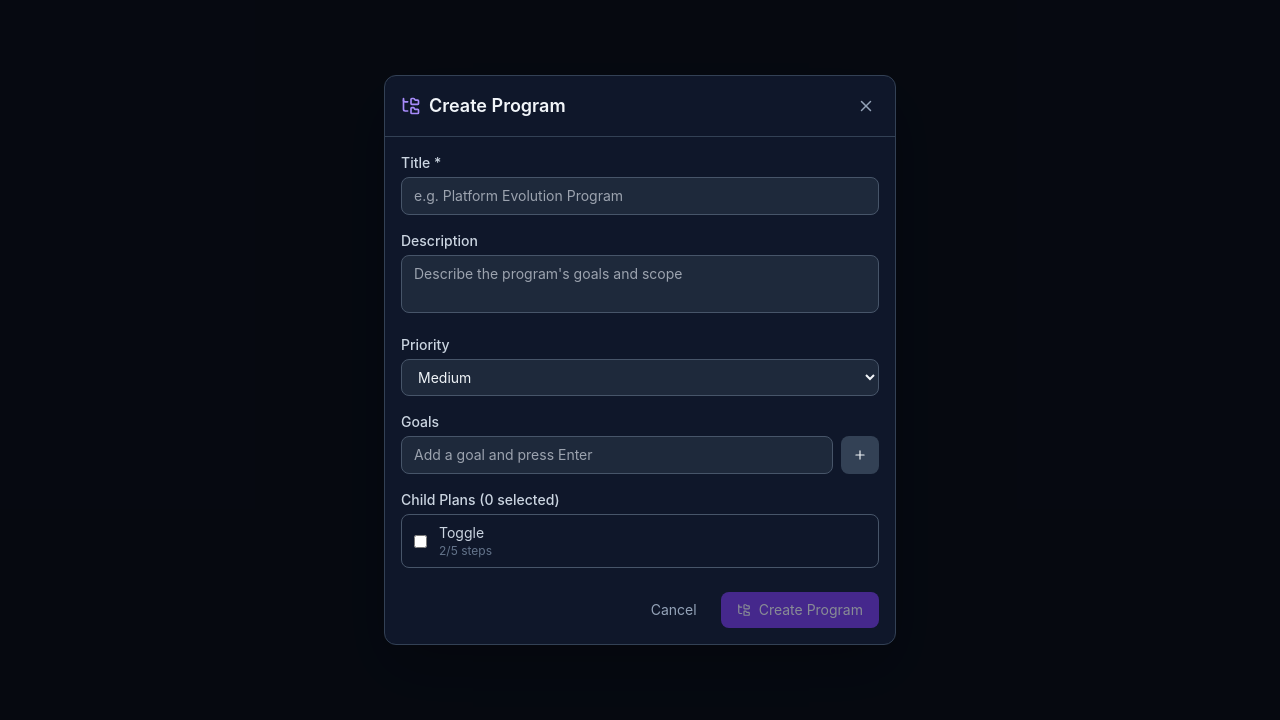
it: ProgramCreateForm › child plan selection › deselecting reduces count
What coordinates should you click on to do the following:
click the checkbox
I would click on:
 (420, 541)
Its box is [414,534,427,548].
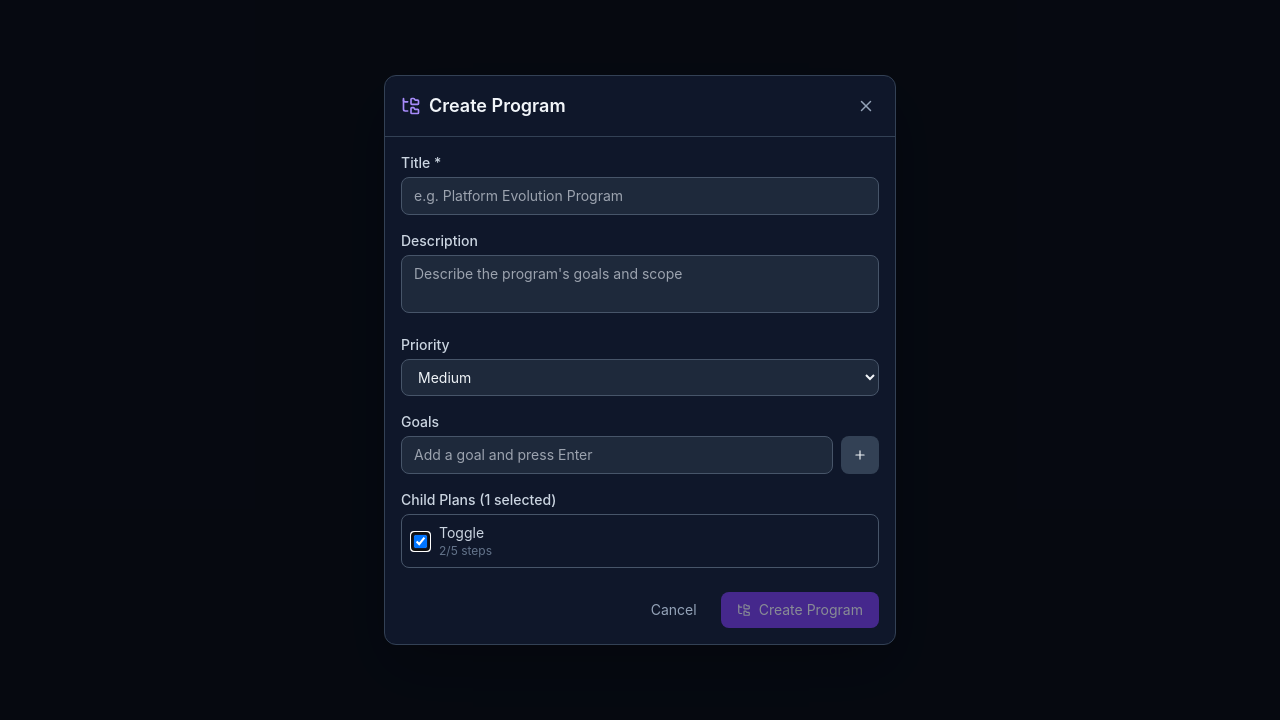
What coordinates should you click on to do the following:
click the checkbox
I would click on:
 (420, 541)
Its box is [414,534,427,548].
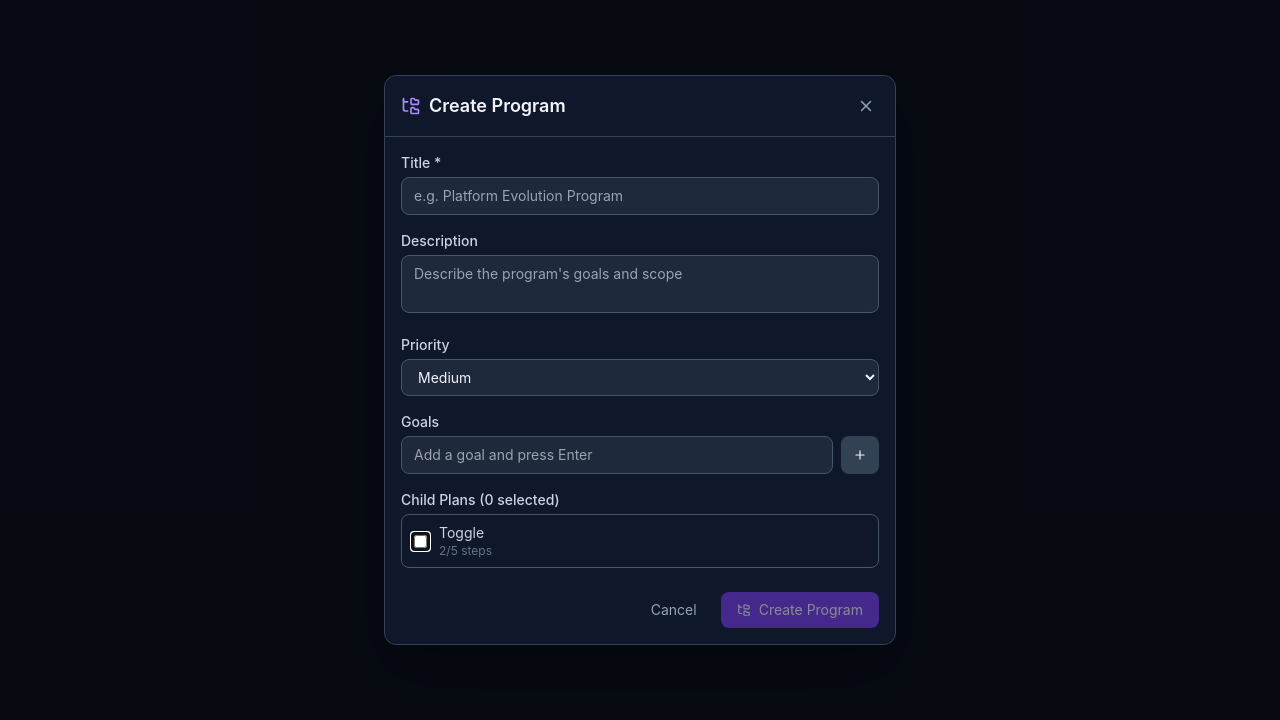
Expected: the text "Child Plans (0 selected)" is shown, [401,491,560,508]
